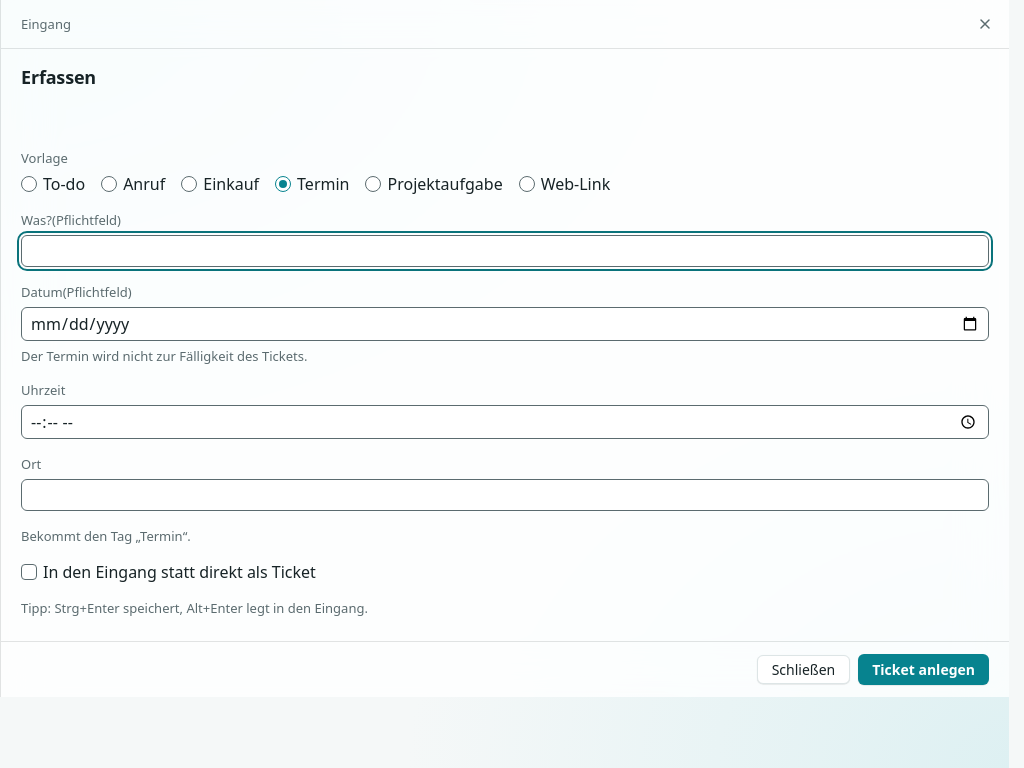
Test: capture form › refuses missing required fields with field errors and focuses the first
Type "10:00" into the time field labelled "Uhrzeit".
click(505, 422); type("10:00")  # box x1=21 y1=405 x2=989 y2=439
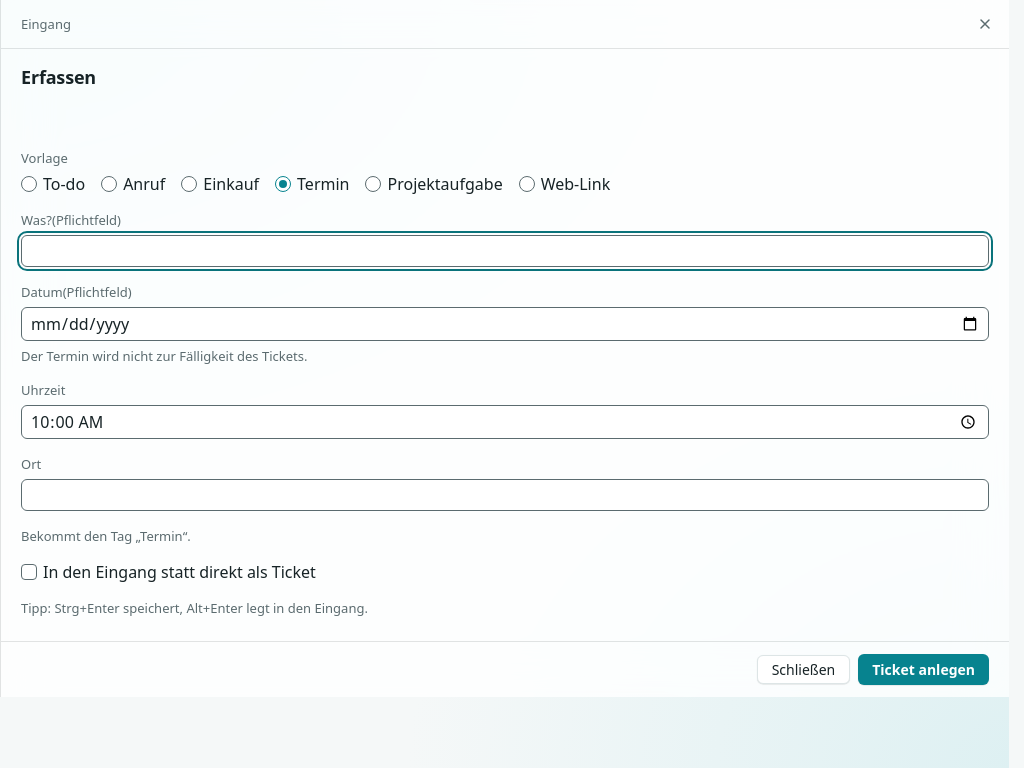
Click the button "Ticket anlegen".
click(924, 670)  # box x1=858 y1=654 x2=989 y2=685
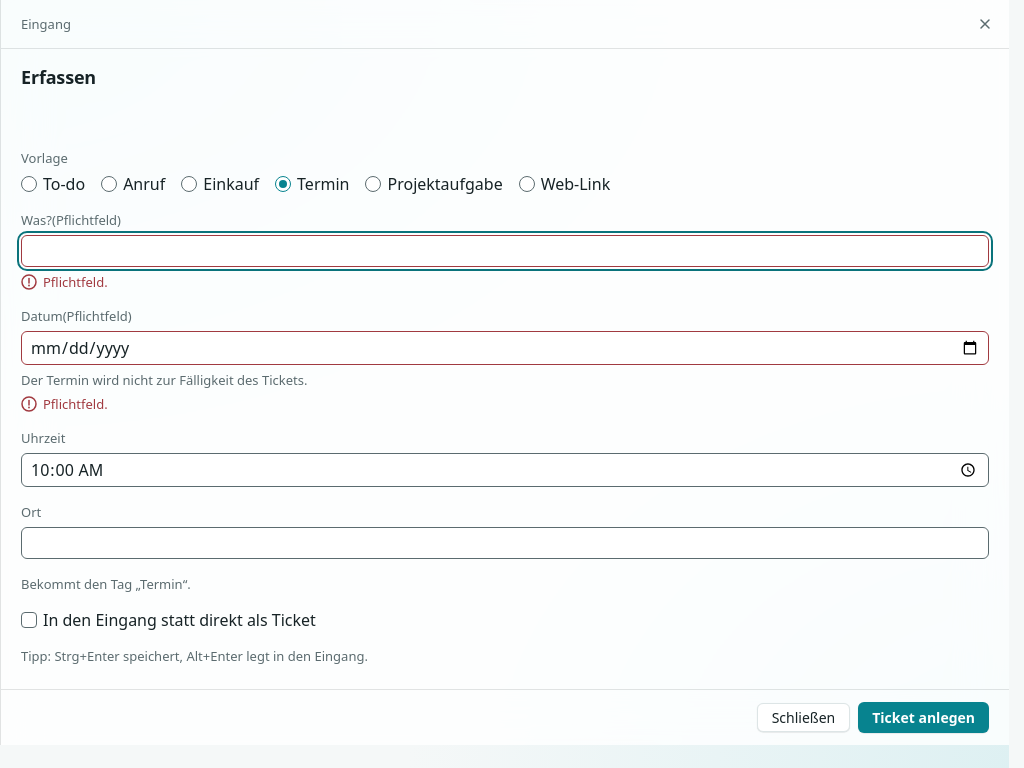
Now the element showing "Pflichtfeld." below "Was?" is shown, box x1=43 y1=273 x2=108 y2=291
Now the icon below "Was?" is shown, box x1=21 y1=274 x2=37 y2=290
